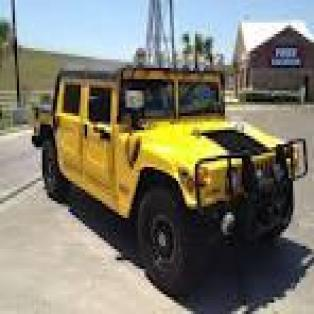Auto: (27, 48, 312, 300)
